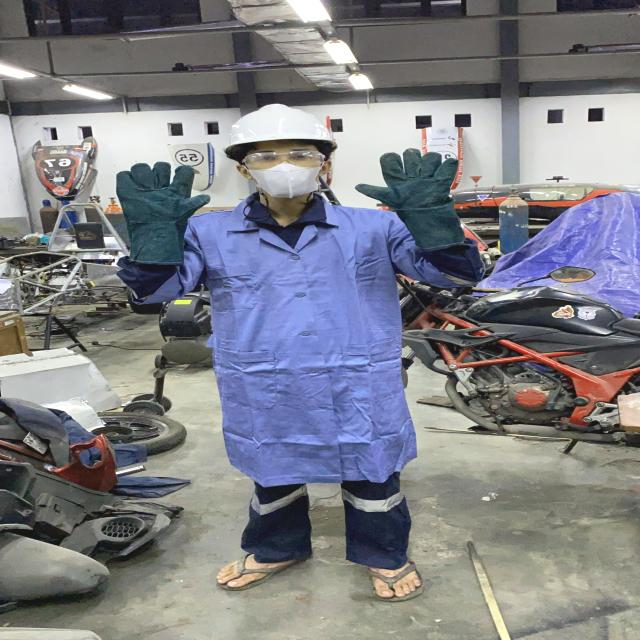face_mask: (242, 147, 334, 198)
glasses: (236, 148, 334, 170)
hand_glove: (348, 148, 472, 216), (108, 158, 215, 229)
head_helmet: (219, 101, 345, 148)
person: (106, 104, 490, 600)
